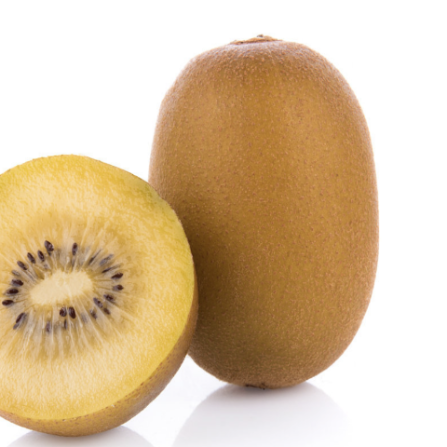kiwi: (109, 21, 423, 429)
